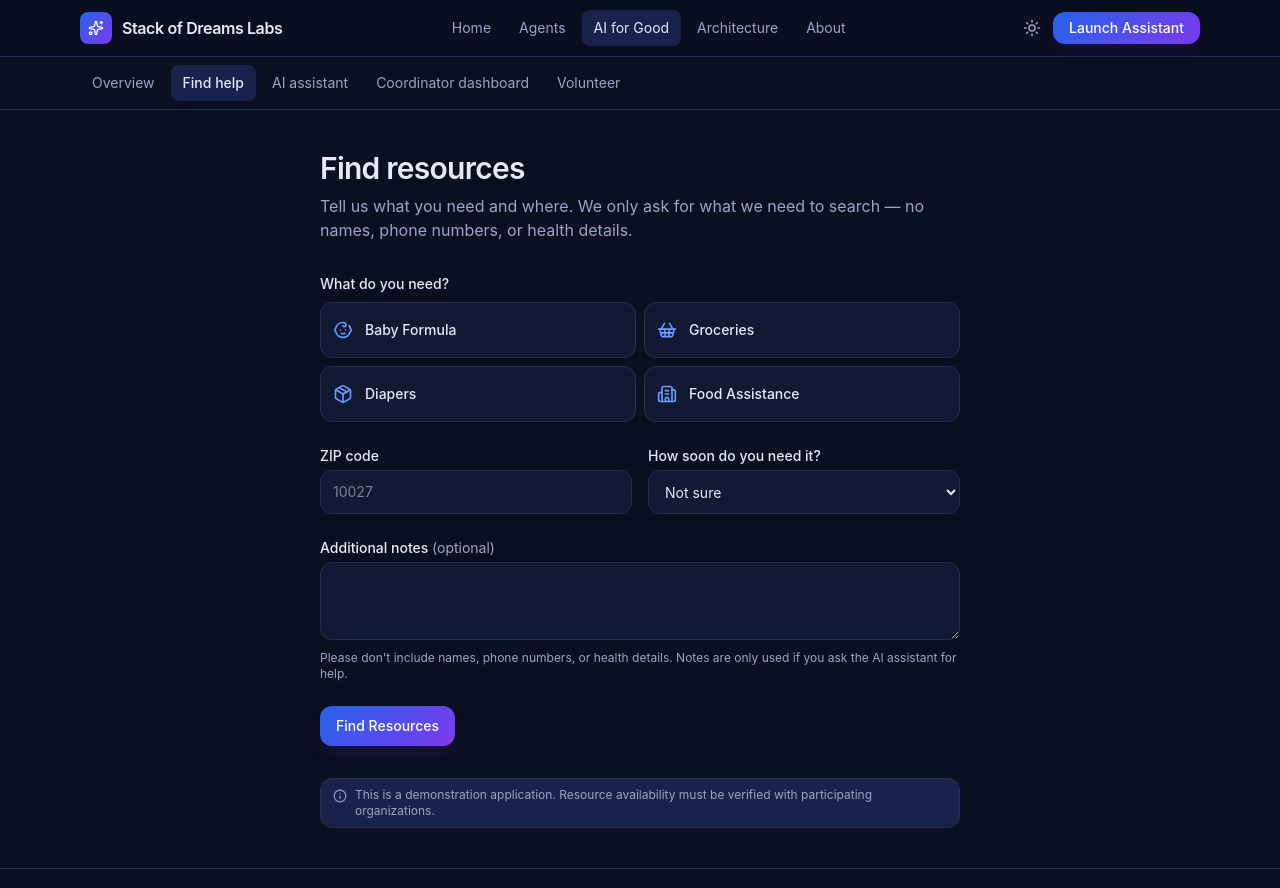
Test: guided search › shows formula type only for baby formula, and picks categories
Expected: the field labelled "Formula type" is not shown
Click the radio button labelled "Baby Formula" at (411, 330), box left=320, top=302, right=636, bottom=358
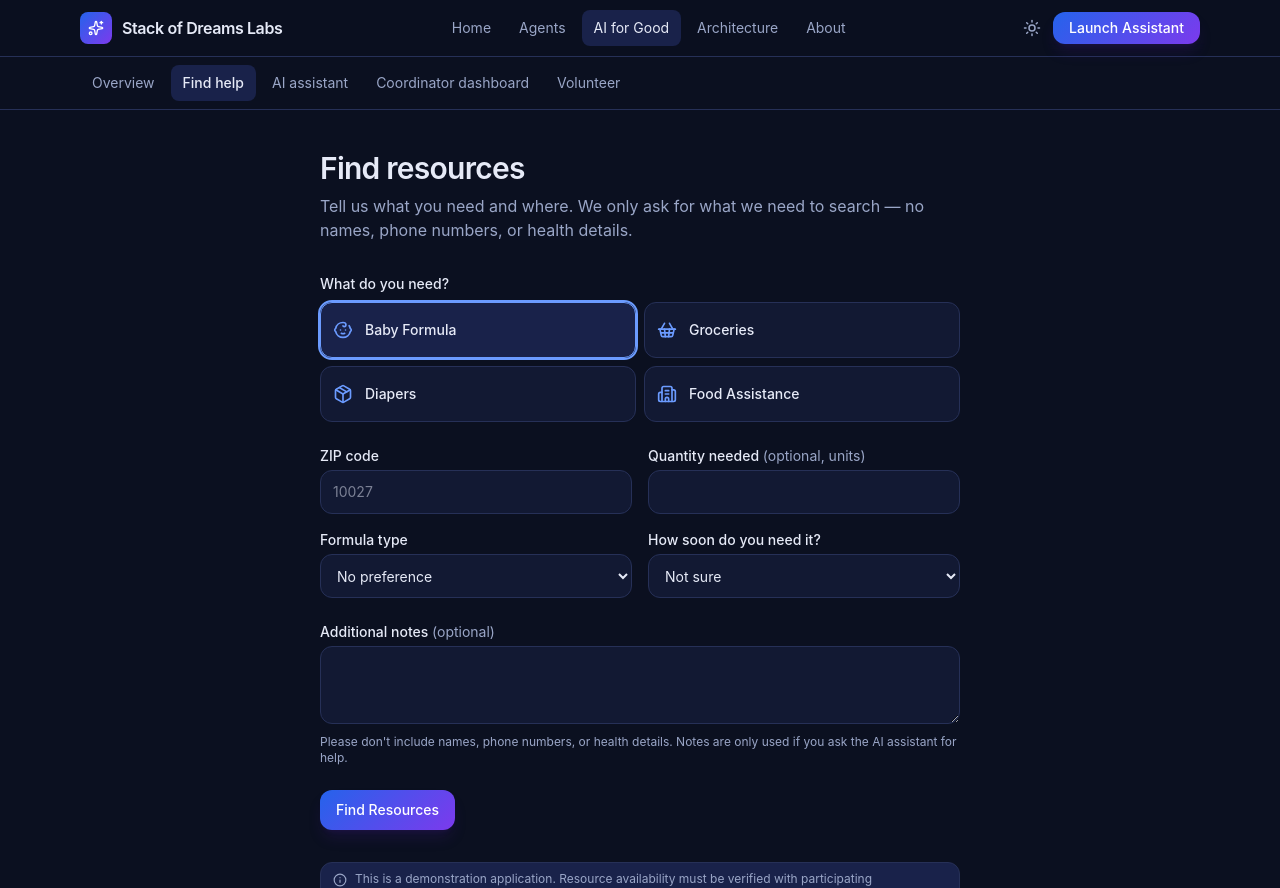
Now the dropdown labelled "Formula type" is shown, box left=320, top=554, right=632, bottom=598
Click the radio button labelled "Groceries" at (722, 330), box left=644, top=302, right=960, bottom=358
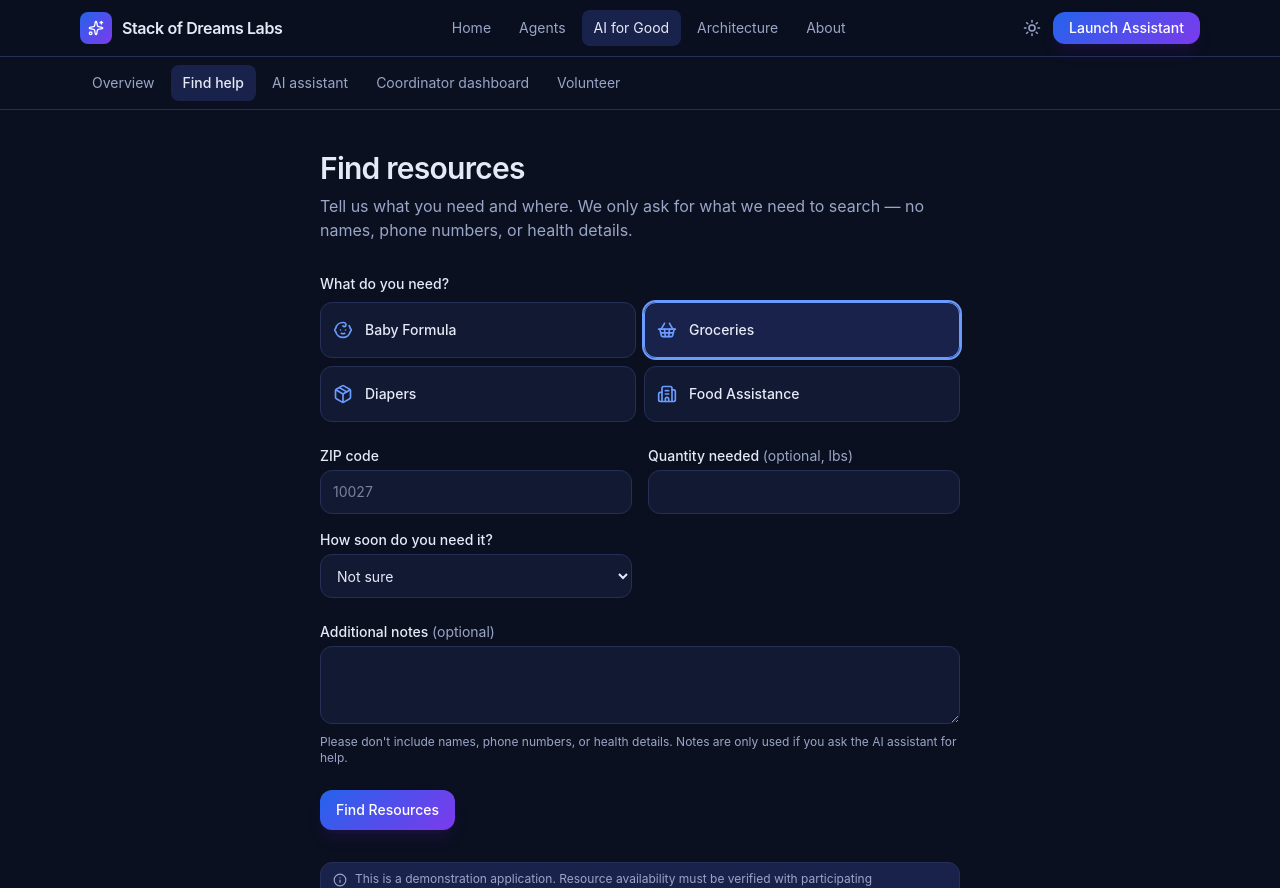
Now the label labelled "Formula type" is gone
